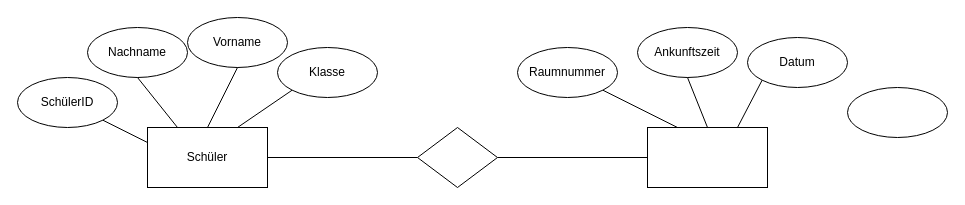
This 965x205 diagram has some shape labels left out. Each missing label, with the centre of its shape:
betritt: (x=457, y=157)
Raum-RFC-Reader: (x=707, y=157)
Zeitdifferenz?: (x=897, y=112)
